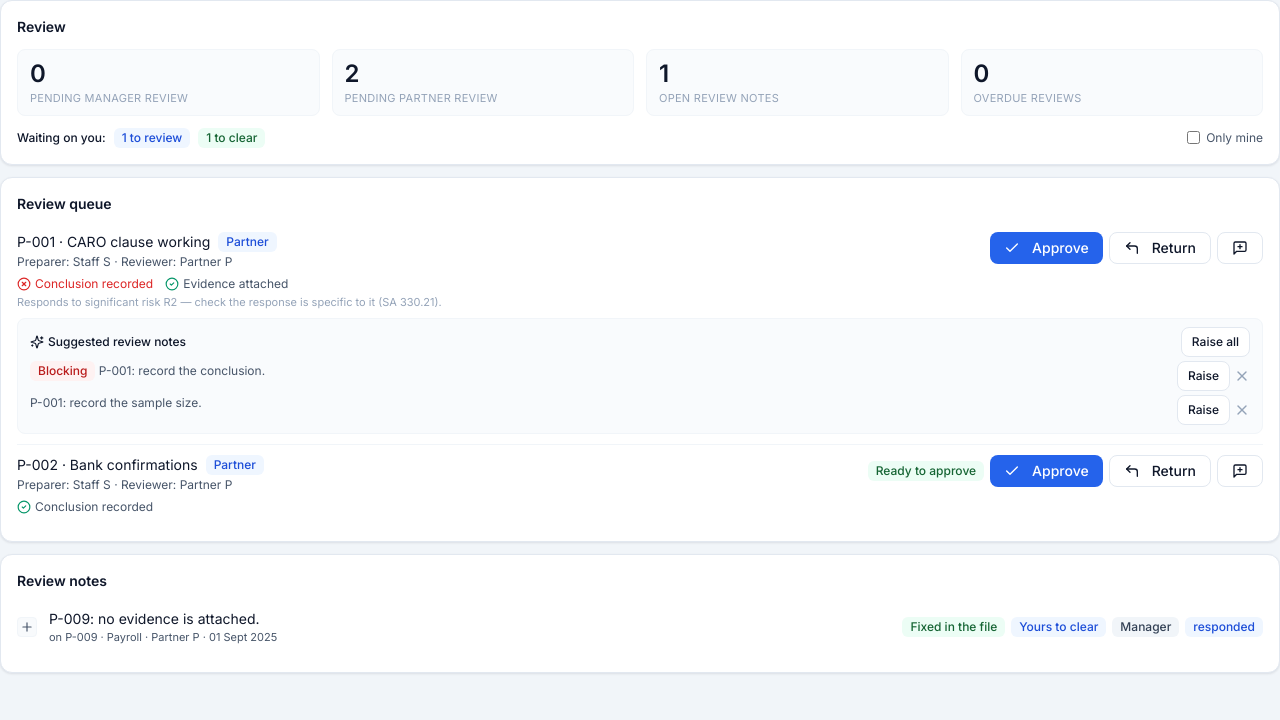
Test: Review reads the file › shows what is waiting on the viewer and flags fixes in the file
The image size is (1280, 720).
Expected: the text "1 to review" is shown, [114, 128, 190, 148]
Expected: the text "Fixed in the file" is shown, [902, 617, 1005, 637]
Click the checkbox labelled "Only mine": click(1194, 138) [1187, 131, 1200, 144]
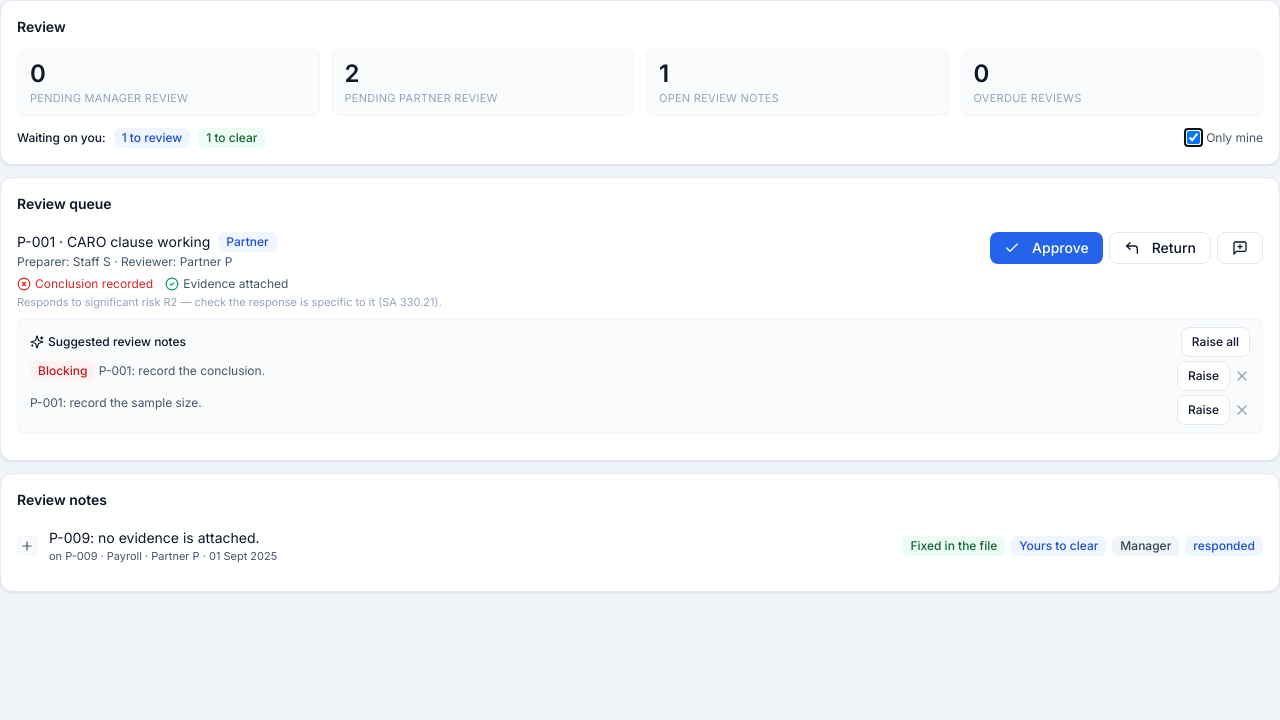
Expected: the text "P-001 · CARO clause working" is shown, [17, 232, 210, 252]
Now the text "P-002 · Bank confirmations" is gone
